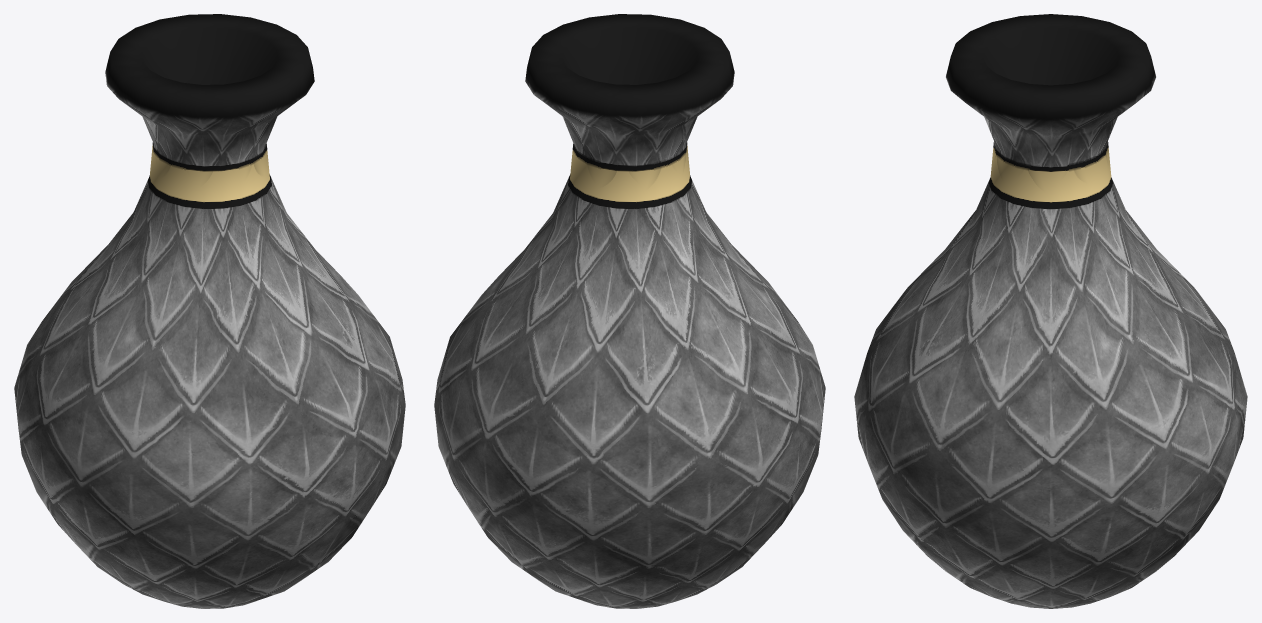
Rendered from jarron.glb.
3 views of the same model, side by side, from view 1: azimuth 30°, elevation 25°; view 2: azimuth 150°, elevation 25°; view 3: azimuth 270°, elevation 25° (orthographic).
Visible parts, largest first — view 1: Object_2; view 2: Object_2; view 3: Object_2.
Boxes of the visible parts, box(x1,y1,x2,y2) form: Object_2: box(14, 14, 405, 608); Object_2: box(434, 14, 825, 608); Object_2: box(854, 14, 1247, 608).
Bounding box in the file's own units: 23.29 × 35.14 × 23.29.
Materials: 1 (1 with a texture image).
